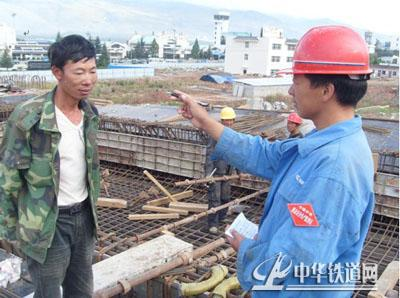helmet: (287, 26, 371, 125), (218, 106, 239, 131), (285, 112, 302, 134)
